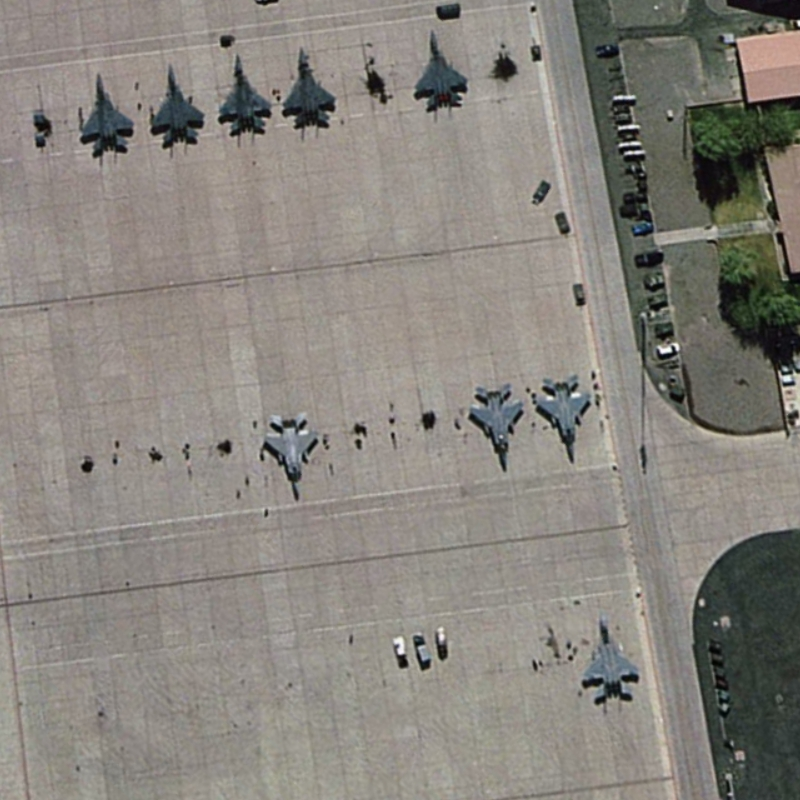A13: (460, 375, 530, 478), (70, 67, 143, 161), (258, 402, 325, 500), (531, 371, 599, 466), (574, 611, 638, 711), (210, 49, 275, 145), (149, 59, 211, 155), (406, 26, 471, 113), (278, 44, 337, 133)
